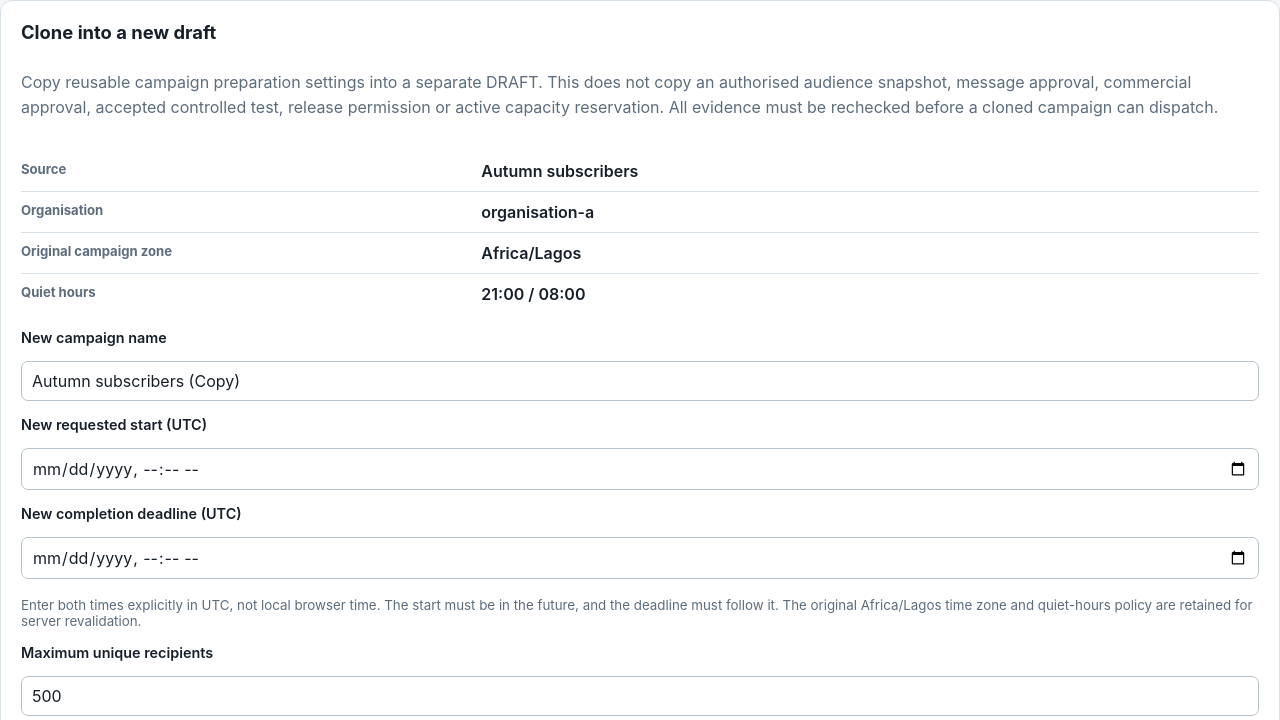
Test: creates a separate DRAFT with explicit new UTC window and never sends inherited release authority
Replace the text in the field labelled "New campaign name" with "November subscribers" at (640, 381), box [21,361,1259,401]
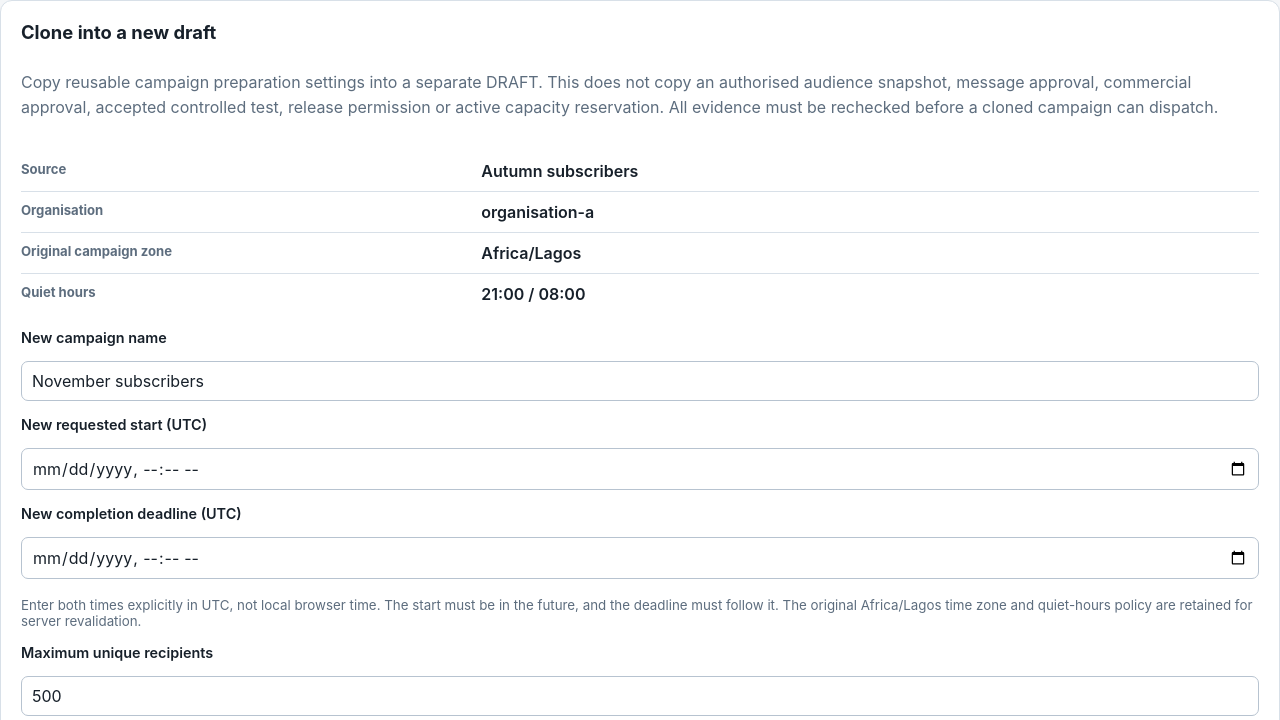
Type "2099-11-10T10:00" into the field labelled "New requested start (UTC)" at (640, 469), box [21,448,1259,490]
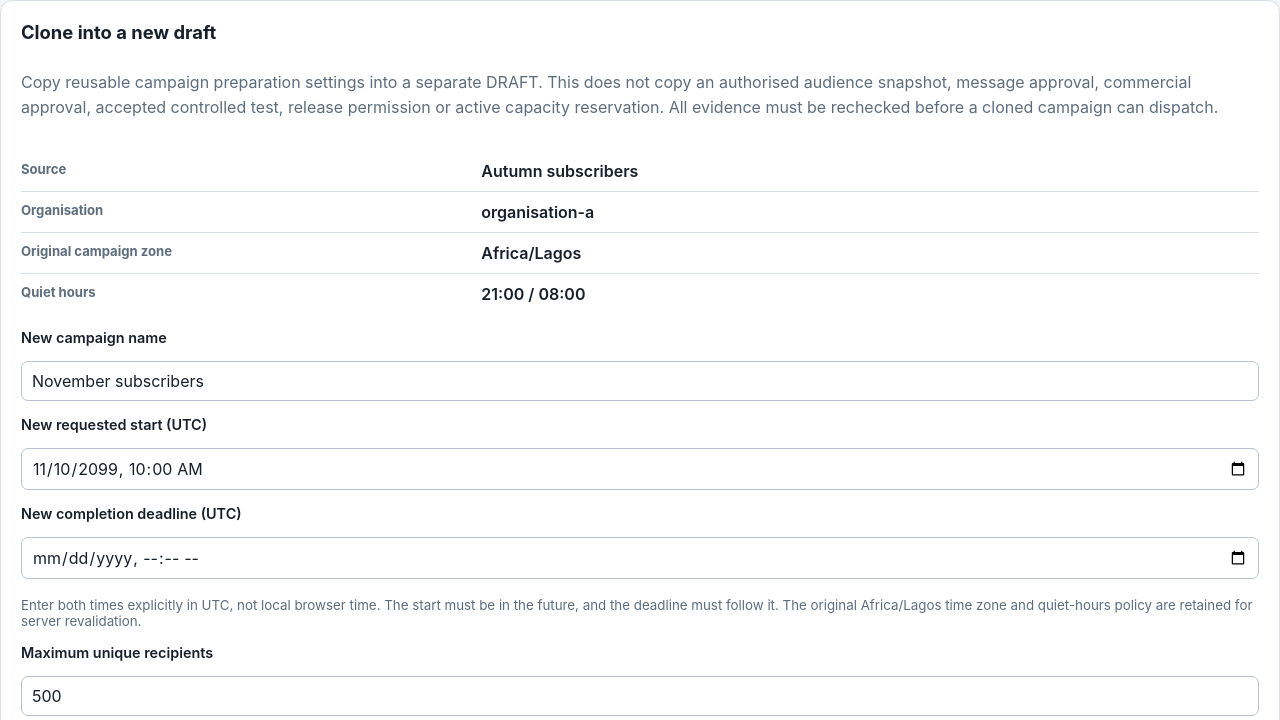
Type "2099-11-11T18:00" into the field labelled "New completion deadline (UTC)" at (640, 558), box [21,537,1259,579]
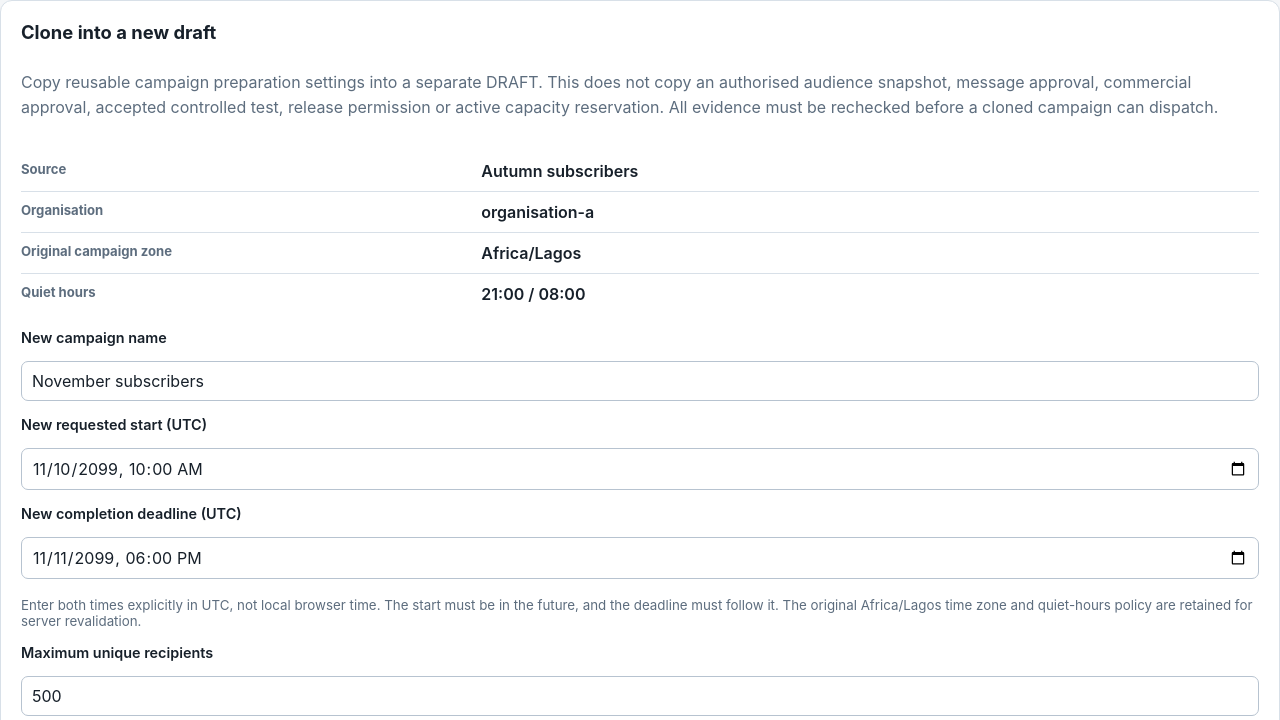
Replace the text in the number field labelled "Maximum unique recipients" with "900" at (640, 696), box [21,676,1259,716]
(page scrolled)
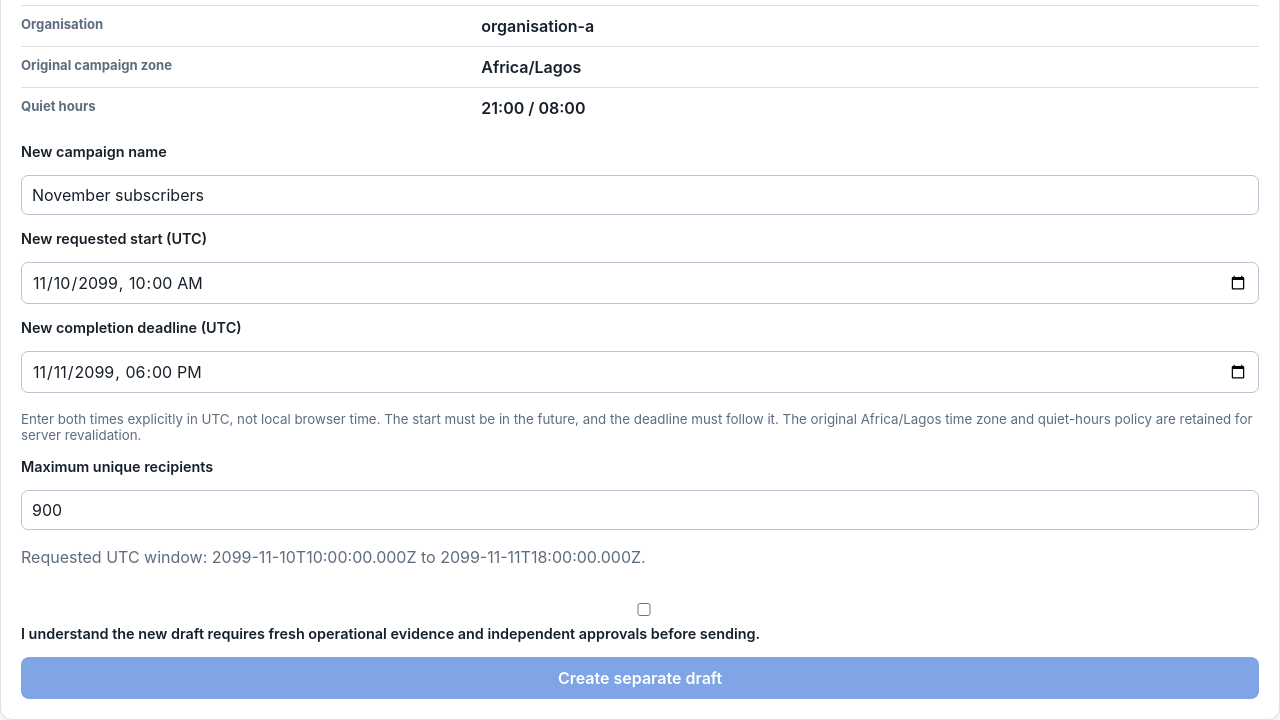
Click the checkbox labelled "I understand the new draft requires fresh operational evidence" at (644, 610), box [25,603,1263,616]
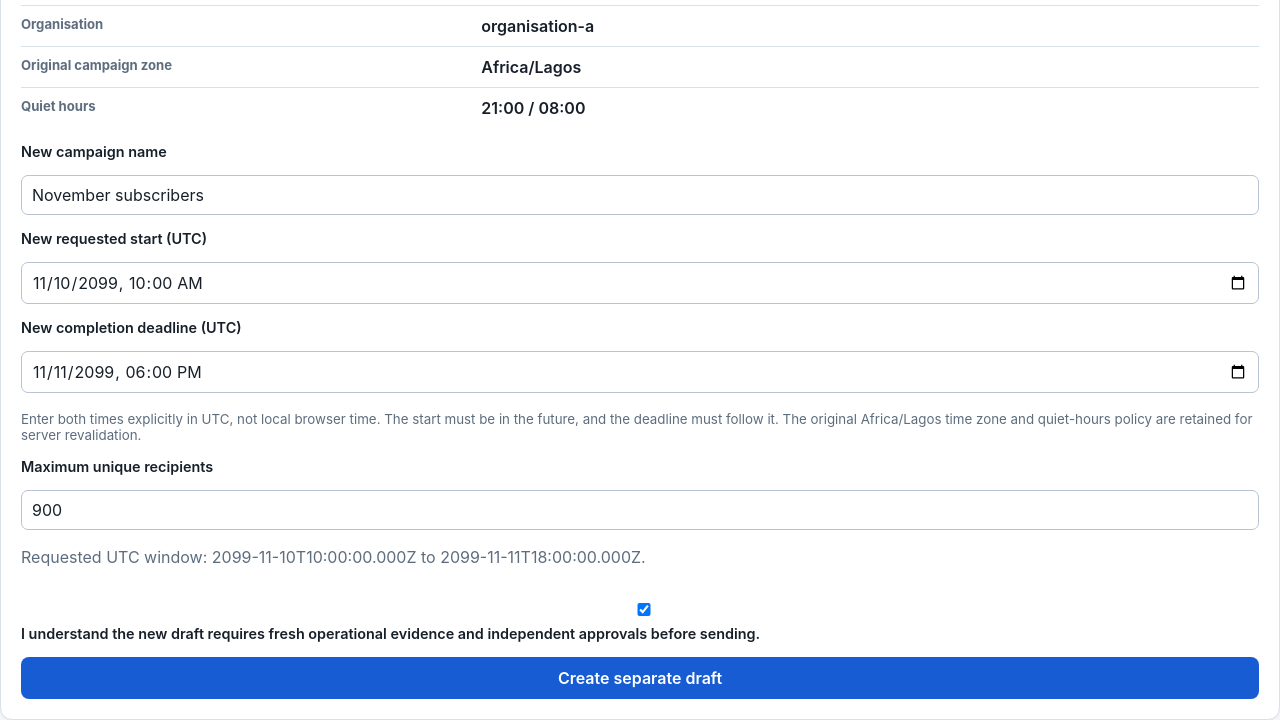
Result: the button "Create separate draft" is enabled
Click the button "Create separate draft" at (640, 678), box [21,657,1259,699]
(page scrolled)
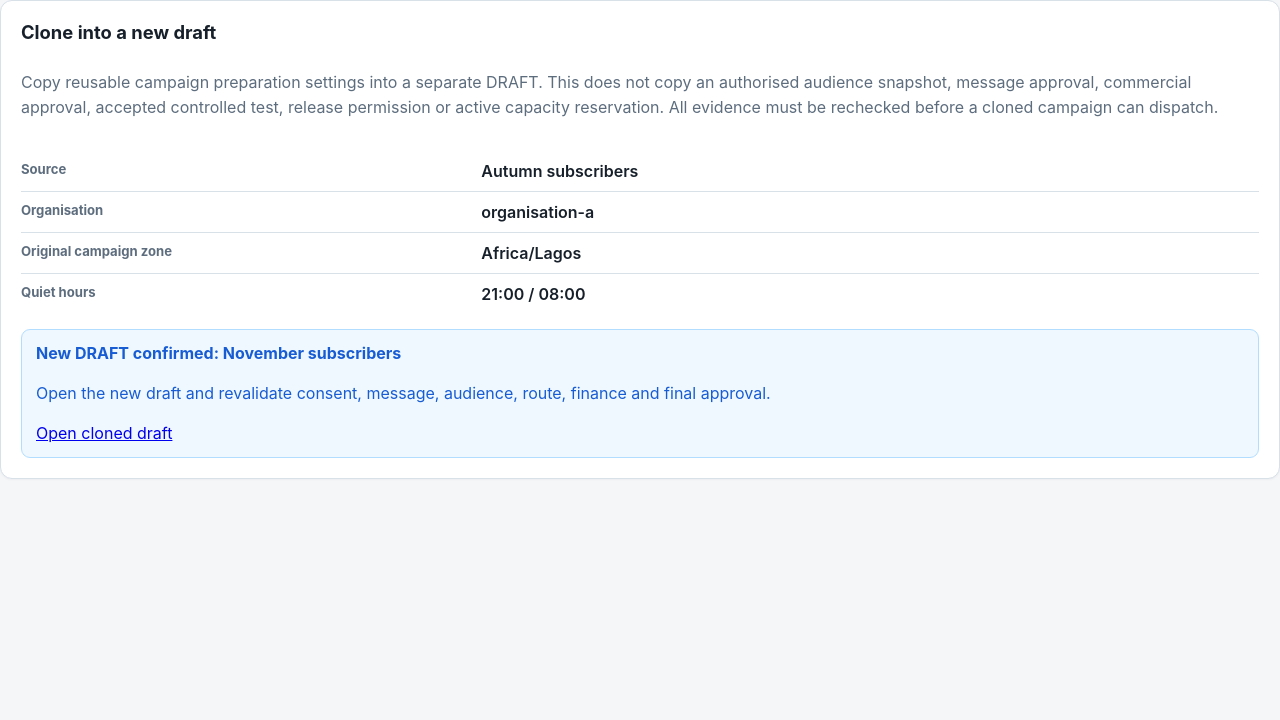
Result: the text "New DRAFT confirmed: November subscribers" is shown at [36,343,401,363]
